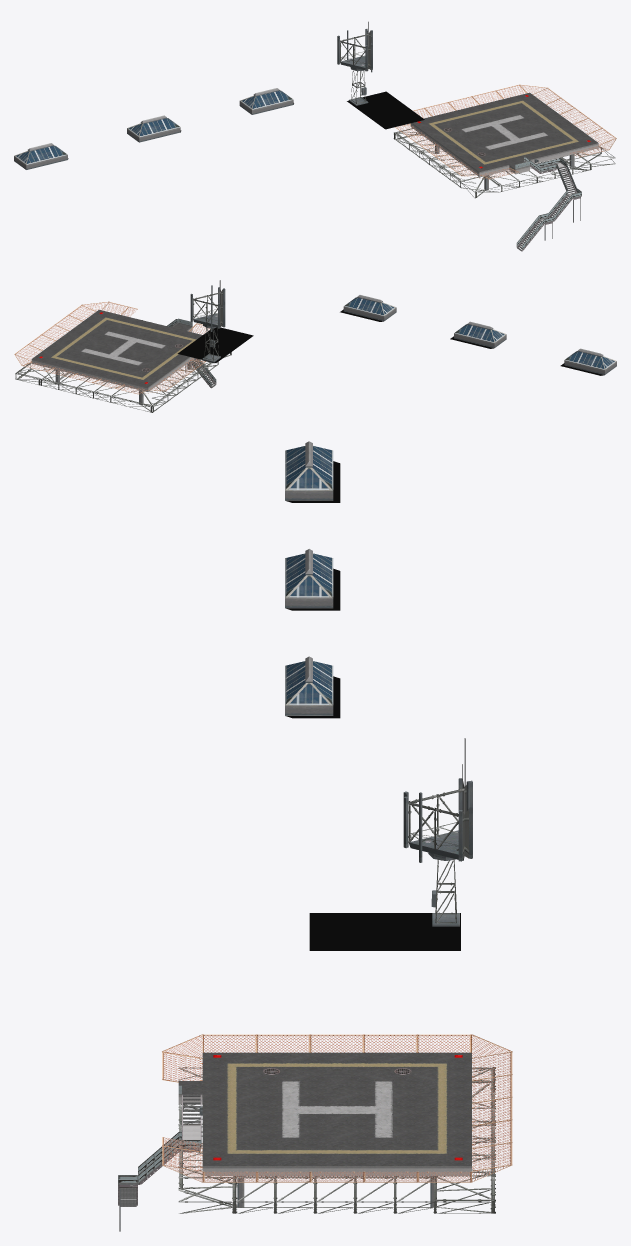
File: copbits_sfe.obj
3 views of the same model, one above another, from view 1: azimuth 30°, elevation 25°; view 2: azimuth 150°, elevation 25°; view 3: azimuth 270°, elevation 25° (orthographic). The views are drawn at different scales.
Parts seen in each view (by area): view 1: copbits_sfe; view 2: copbits_sfe; view 3: copbits_sfe.
Part boxes in pixels (box(x1,y1,x2,y2)): copbits_sfe: box(14, 21, 616, 251); copbits_sfe: box(14, 280, 616, 412); copbits_sfe: box(118, 441, 512, 1231).
Size of the model in its own units: 119 by 38.96 by 36.65.
23 materials, 21 textured.
